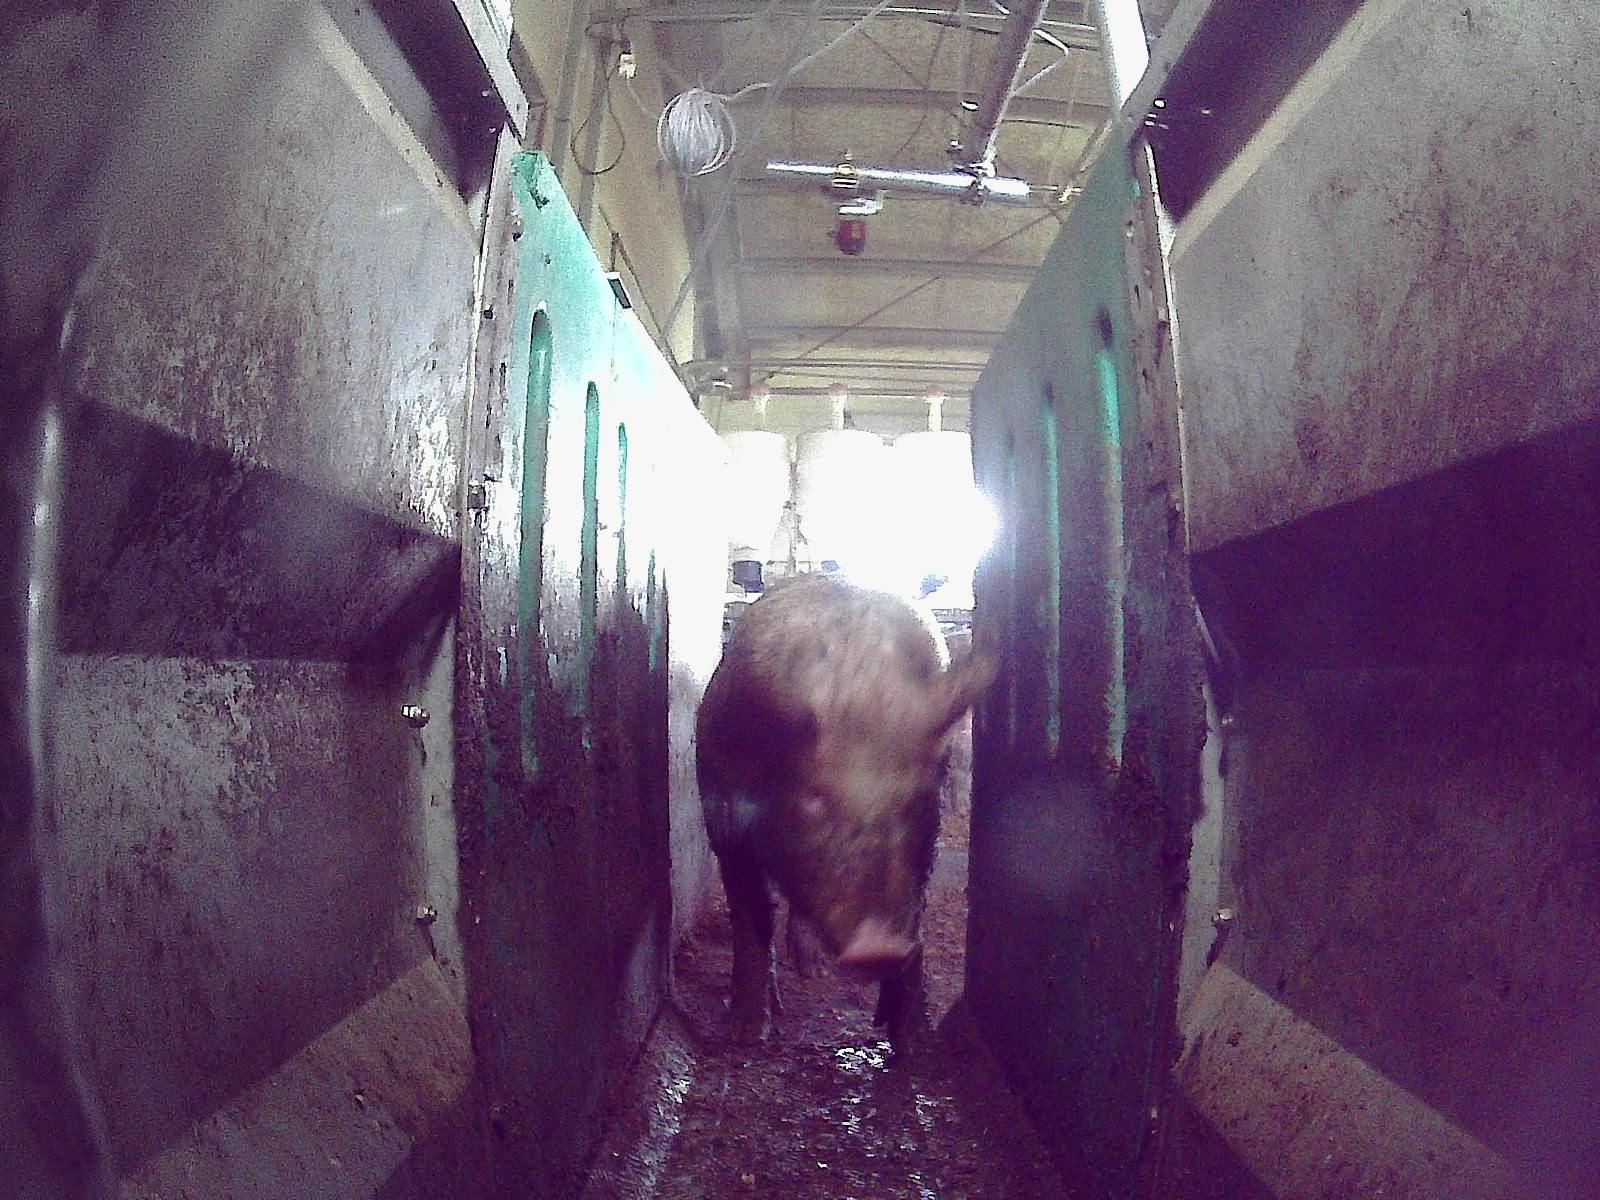Face: (763, 728, 934, 978)
